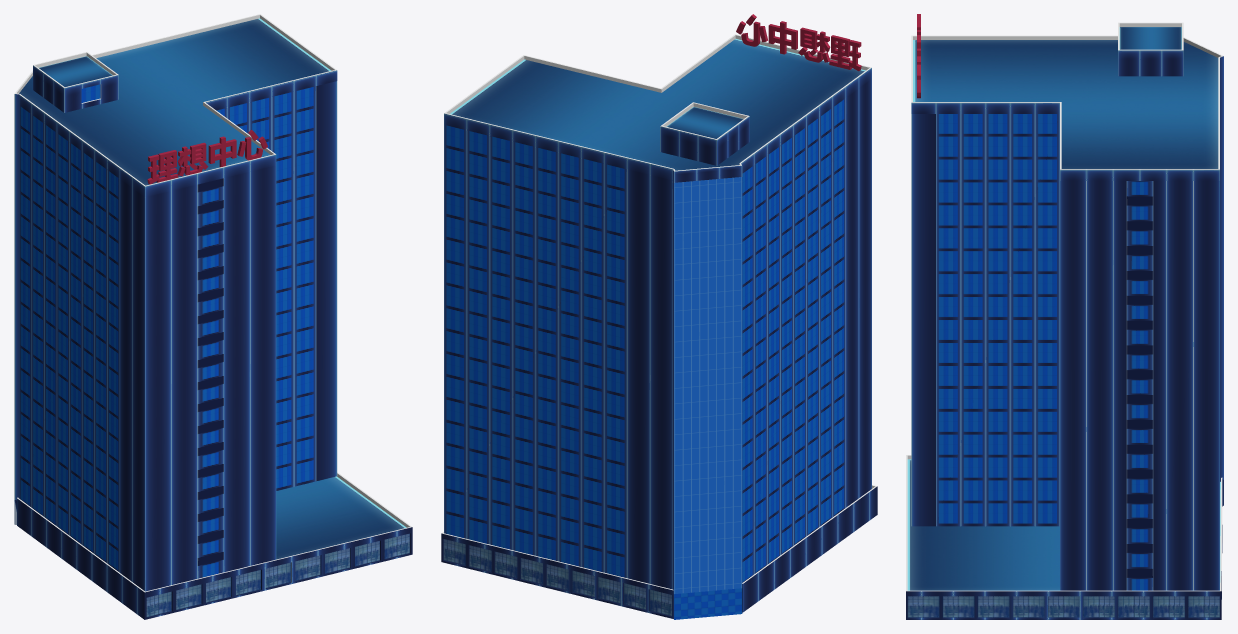
Rendered from lxzx.obj.
3 renders of one model, left to right at view 1: azimuth 30°, elevation 25°; view 2: azimuth 150°, elevation 25°; view 3: azimuth 270°, elevation 25°, orthographic. The views are drawn at different scales.
Parts seen in each view (by area): view 1: Rectangle569; view 2: Rectangle569; view 3: Rectangle569.
Boxes of the visible parts, x1,y1,x2,y2 form: Rectangle569: (14, 14, 412, 619); Rectangle569: (441, 14, 877, 619); Rectangle569: (906, 14, 1223, 619).
Bounding box in the file's own units: 40.72 × 66.42 × 40.12.
